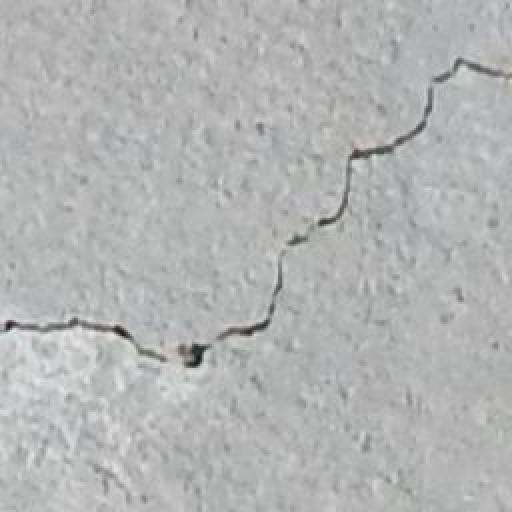spalling: (8, 43, 509, 385)
